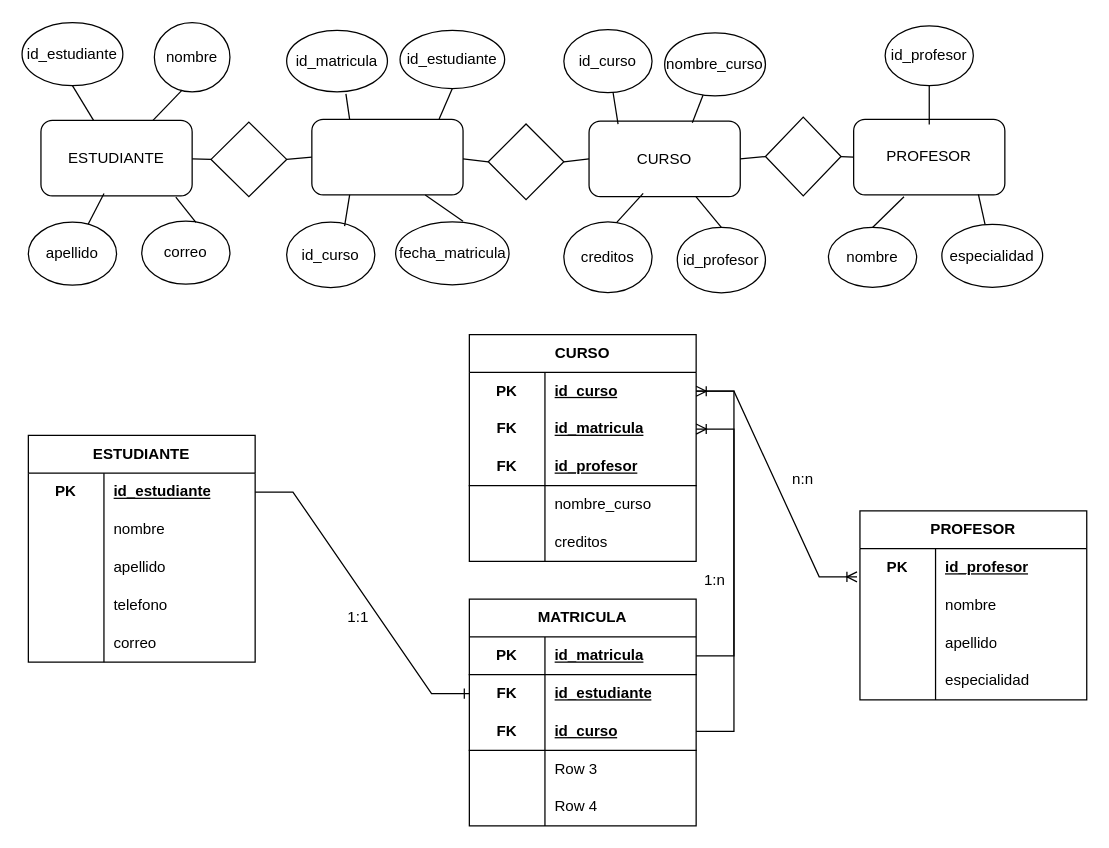
Some shapes in this 1109 by 848 pixel diagram are drawn without their labels. The shapes that lost their labels are listed below. From the top down, each one's centre as x and y in pixels, then its label:
At pixel 248 159: "Obtiene".
At pixel 387 156: "MATRÍCULA".
At pixel 525 161: "Ingresa".
At pixel 802 156: "Enseña".
